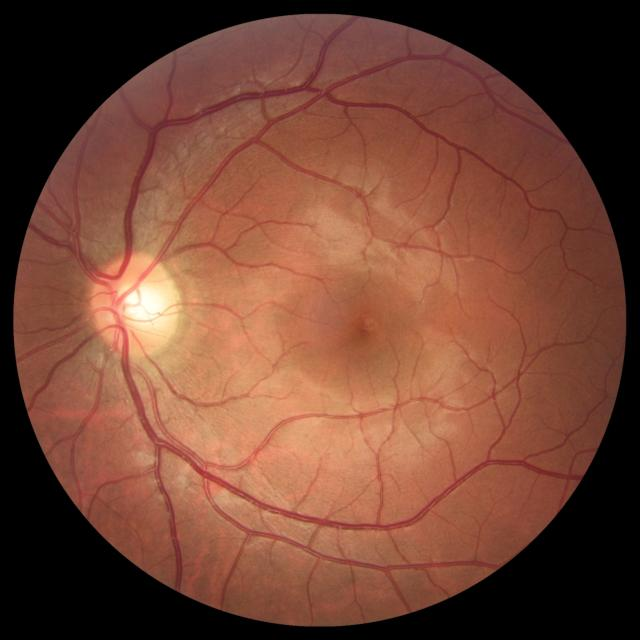OC: (114, 282, 157, 334)
OD: (91, 253, 181, 358)
